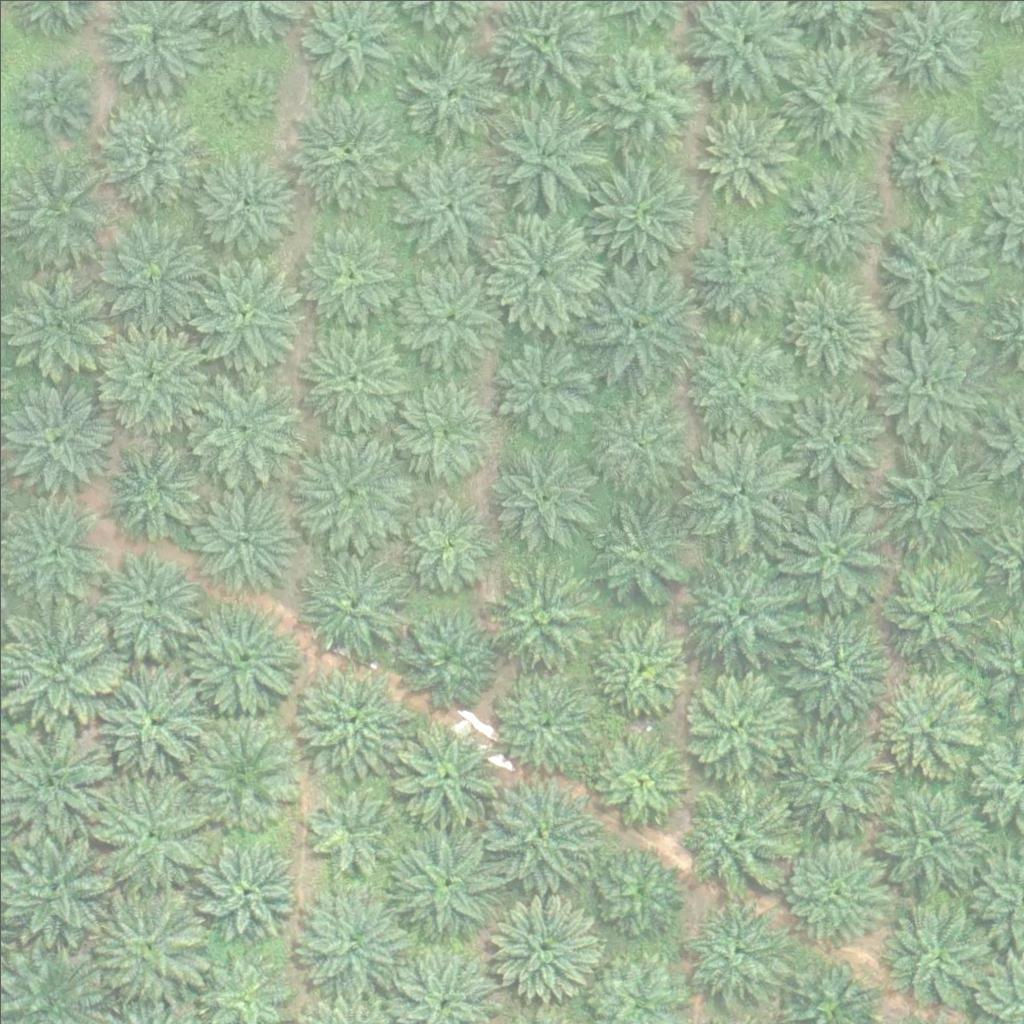Kelapa_Sawit: (883, 898, 996, 1012), (776, 832, 889, 946), (678, 779, 791, 893), (681, 668, 794, 782), (92, 97, 205, 211), (186, 256, 299, 370), (580, 496, 693, 610), (591, 40, 704, 154), (780, 720, 893, 833), (484, 887, 597, 1000), (388, 828, 501, 941), (387, 723, 500, 836), (293, 663, 406, 776), (183, 604, 296, 717), (92, 888, 205, 1001), (1, 608, 114, 721), (88, 317, 201, 430), (94, 222, 207, 335), (187, 482, 300, 595), (183, 366, 296, 479), (296, 547, 409, 660), (291, 433, 404, 546), (484, 214, 597, 327), (487, 102, 600, 215), (583, 384, 696, 497), (578, 265, 691, 378), (585, 153, 698, 266), (683, 553, 796, 666), (681, 431, 794, 544), (876, 329, 989, 442), (876, 213, 989, 326), (878, 101, 991, 214), (487, 561, 599, 675), (291, 318, 403, 432), (488, 437, 600, 551), (872, 781, 984, 894), (871, 666, 983, 779), (774, 613, 886, 726), (487, 774, 599, 887), (489, 664, 601, 777), (297, 881, 409, 994), (185, 718, 297, 831), (91, 776, 203, 889), (93, 670, 205, 783), (89, 546, 201, 659), (289, 93, 401, 206), (390, 256, 502, 369), (386, 146, 498, 259), (681, 325, 793, 438), (683, 212, 795, 325), (776, 494, 888, 607), (779, 383, 891, 496), (876, 550, 988, 663), (873, 435, 985, 548), (786, 42, 898, 155), (392, 37, 504, 150), (582, 843, 682, 944), (398, 608, 498, 709), (298, 775, 398, 876), (198, 842, 298, 943), (96, 441, 196, 542), (692, 105, 792, 206), (784, 273, 884, 374), (779, 167, 879, 268), (680, 904, 780, 1004), (584, 729, 684, 829), (588, 617, 688, 717), (191, 153, 291, 253), (298, 222, 398, 322), (397, 490, 497, 590), (392, 376, 492, 476), (489, 332, 589, 432), (12, 55, 87, 131), (208, 65, 270, 128)
